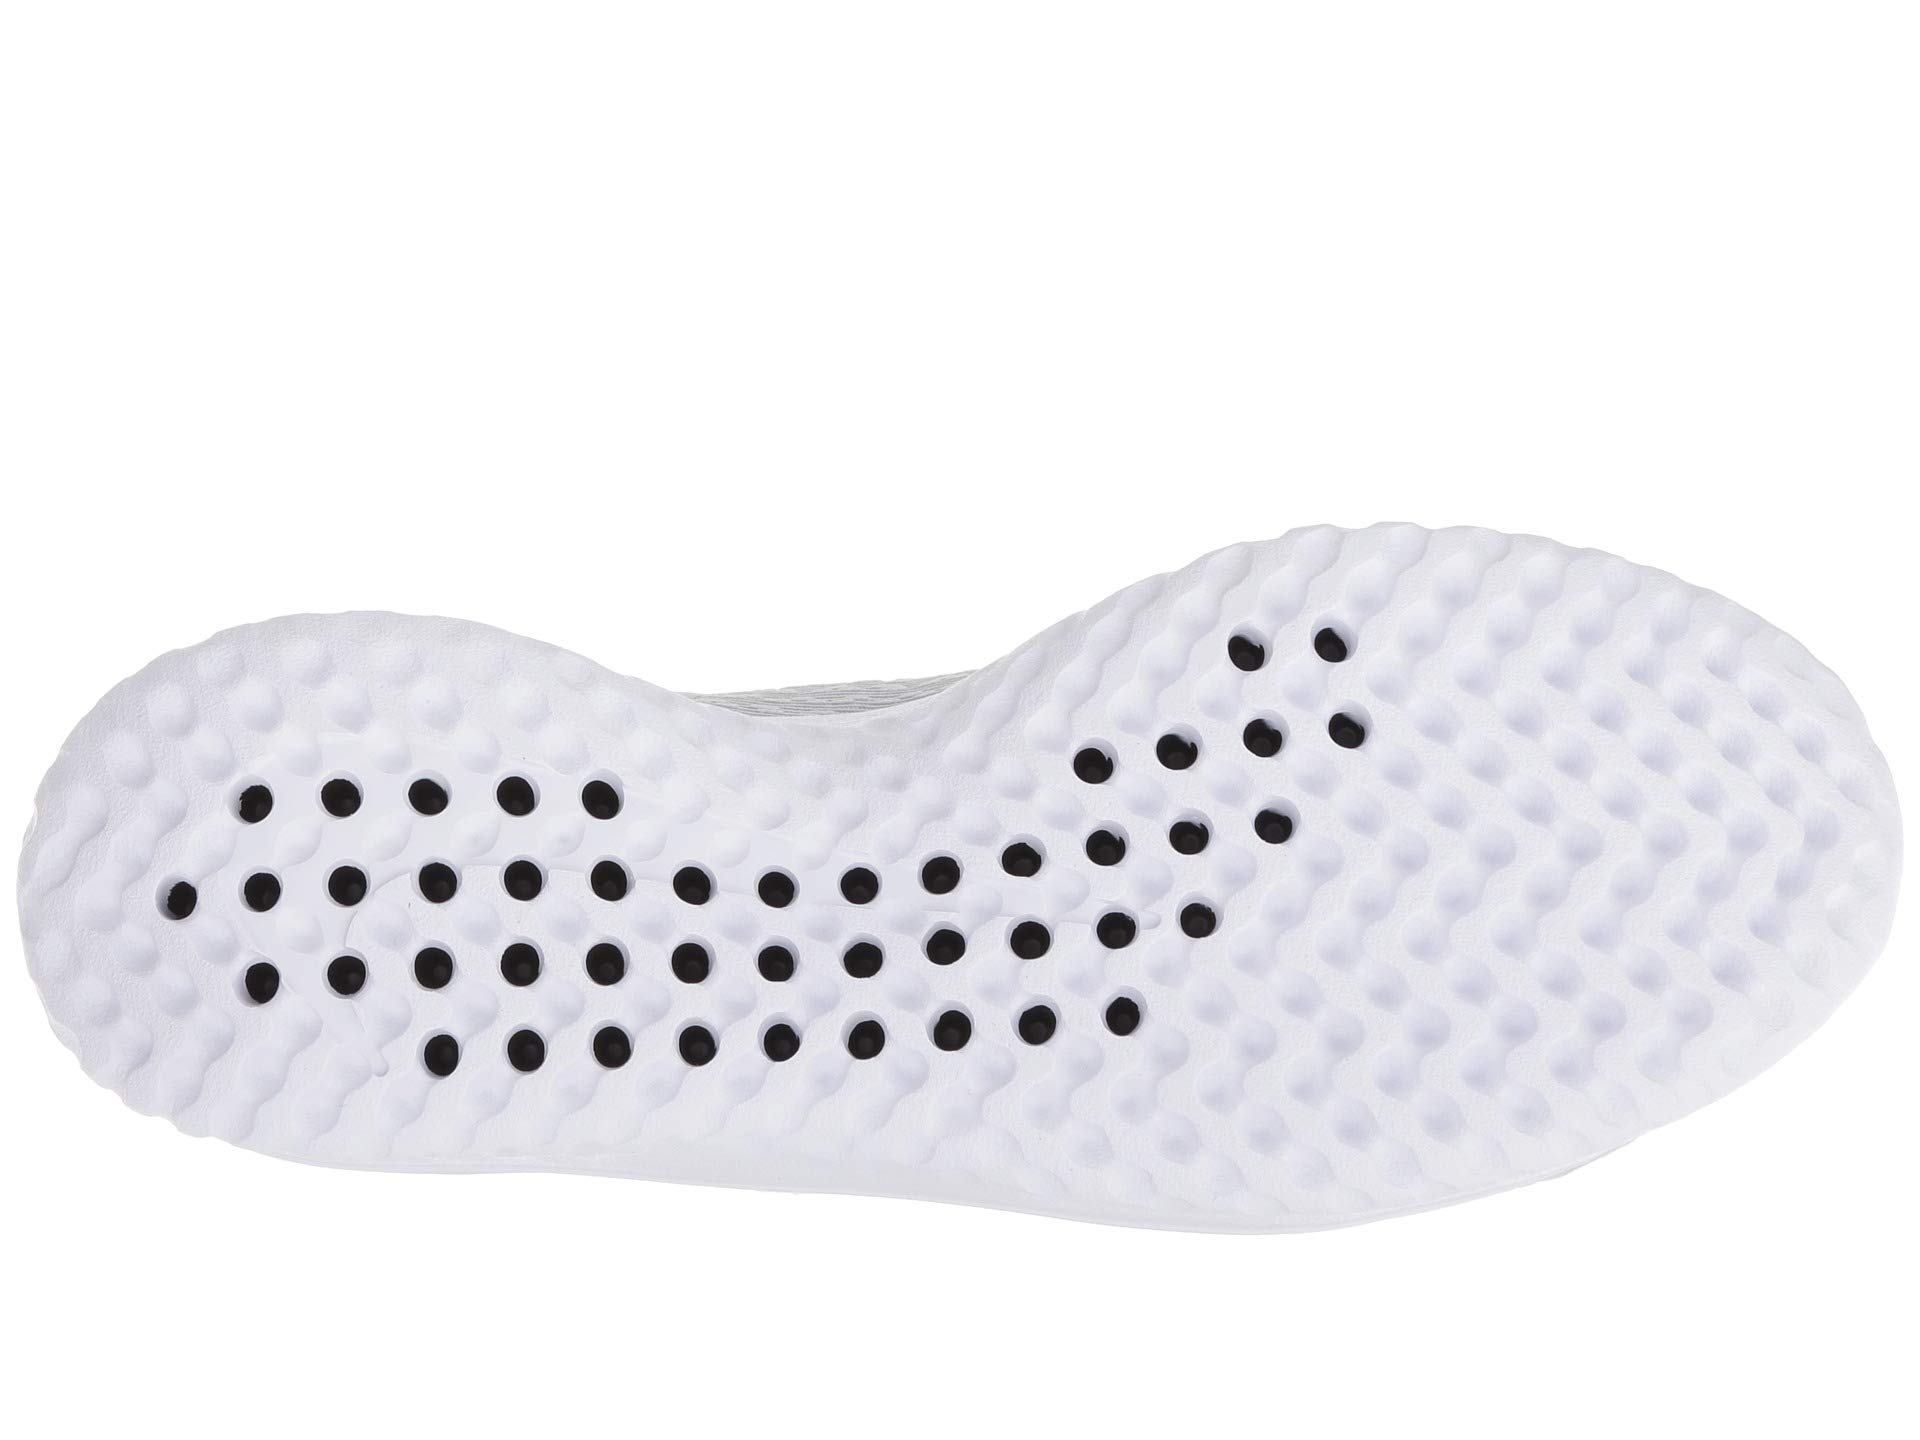circle: (218, 767, 662, 1088), (670, 820, 1164, 1082), (1215, 610, 1377, 759)
